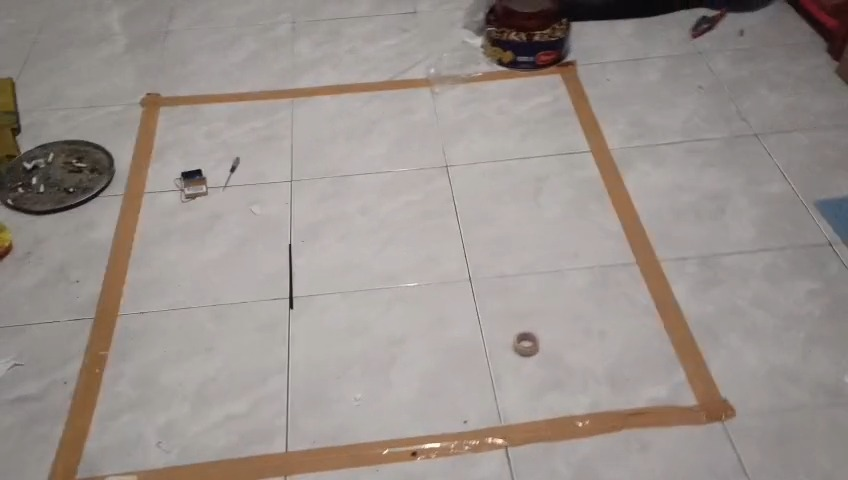floor marking: (87, 64, 734, 479), (49, 80, 426, 479)
